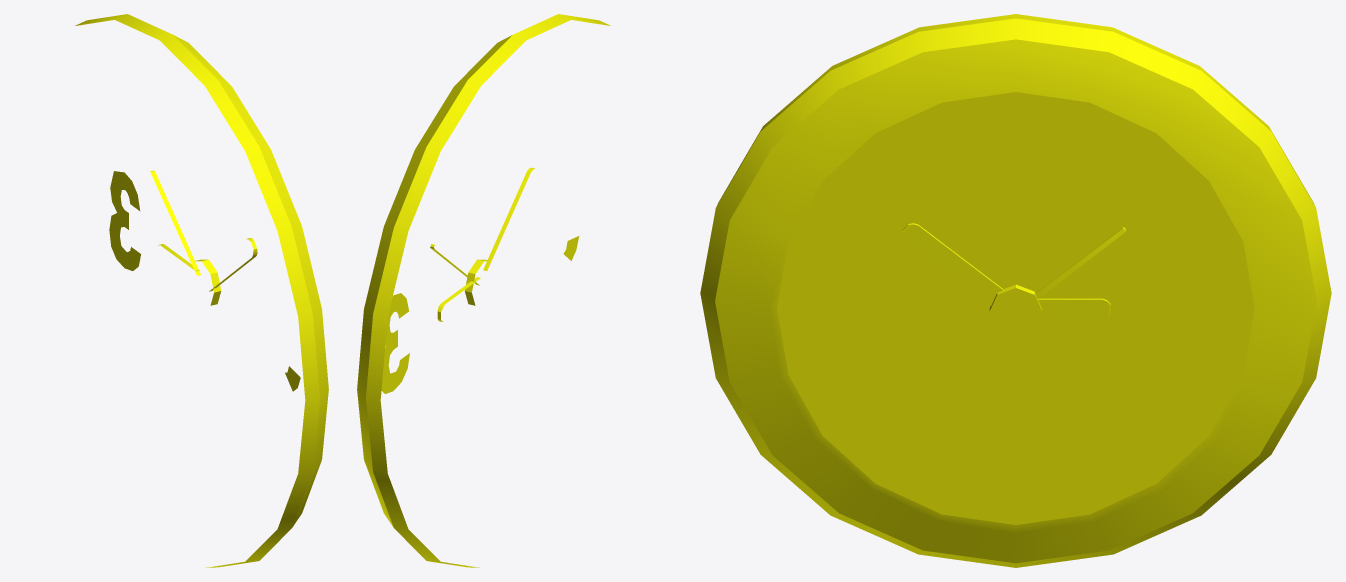
The picture shows the model from 3 angles, left to right: view 1: azimuth 30°, elevation 25°; view 2: azimuth 150°, elevation 25°; view 3: azimuth 270°, elevation 25°; orthographic projection. The views are drawn at different scales.
Visible parts, largest first — view 1: clock2; view 2: clock2; view 3: clock2.
Boxes of the visible parts, box(x1,y1,x2,y2) form: clock2: box(75, 14, 328, 567); clock2: box(357, 14, 610, 567); clock2: box(700, 14, 1331, 567).
Size of the model in its own units: 0.000896 by 0.0089 by 0.00926.
1 material, 1 textured.
